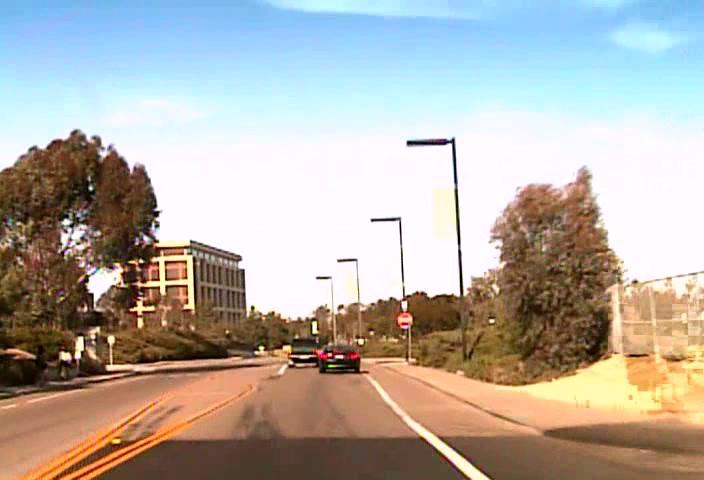stop: (397, 311, 412, 328)
